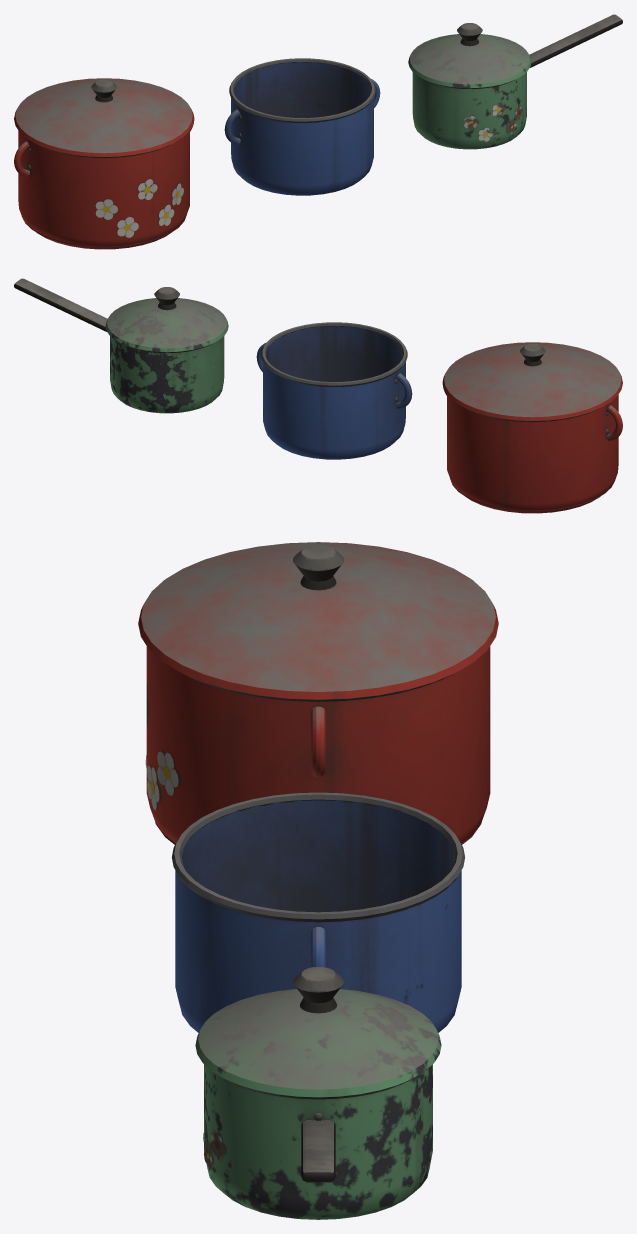
Rendered from SM_Pot_Enamel_Set.fbx.
3 views of the same model, one above another, from view 1: azimuth 30°, elevation 25°; view 2: azimuth 150°, elevation 25°; view 3: azimuth 270°, elevation 25° (orthographic). The views are drawn at different scales.
Parts seen in each view (by area): view 1: SM_Pot_Enamel_Set; view 2: SM_Pot_Enamel_Set; view 3: SM_Pot_Enamel_Set.
Boxes of the visible parts, box(x1,y1,x2,y2) form: SM_Pot_Enamel_Set: box(14, 14, 622, 249); SM_Pot_Enamel_Set: box(14, 278, 622, 513); SM_Pot_Enamel_Set: box(138, 542, 498, 1219).
Size of the model in its own units: 0.9765 by 0.207 by 0.252.
1 material, 1 textured.
